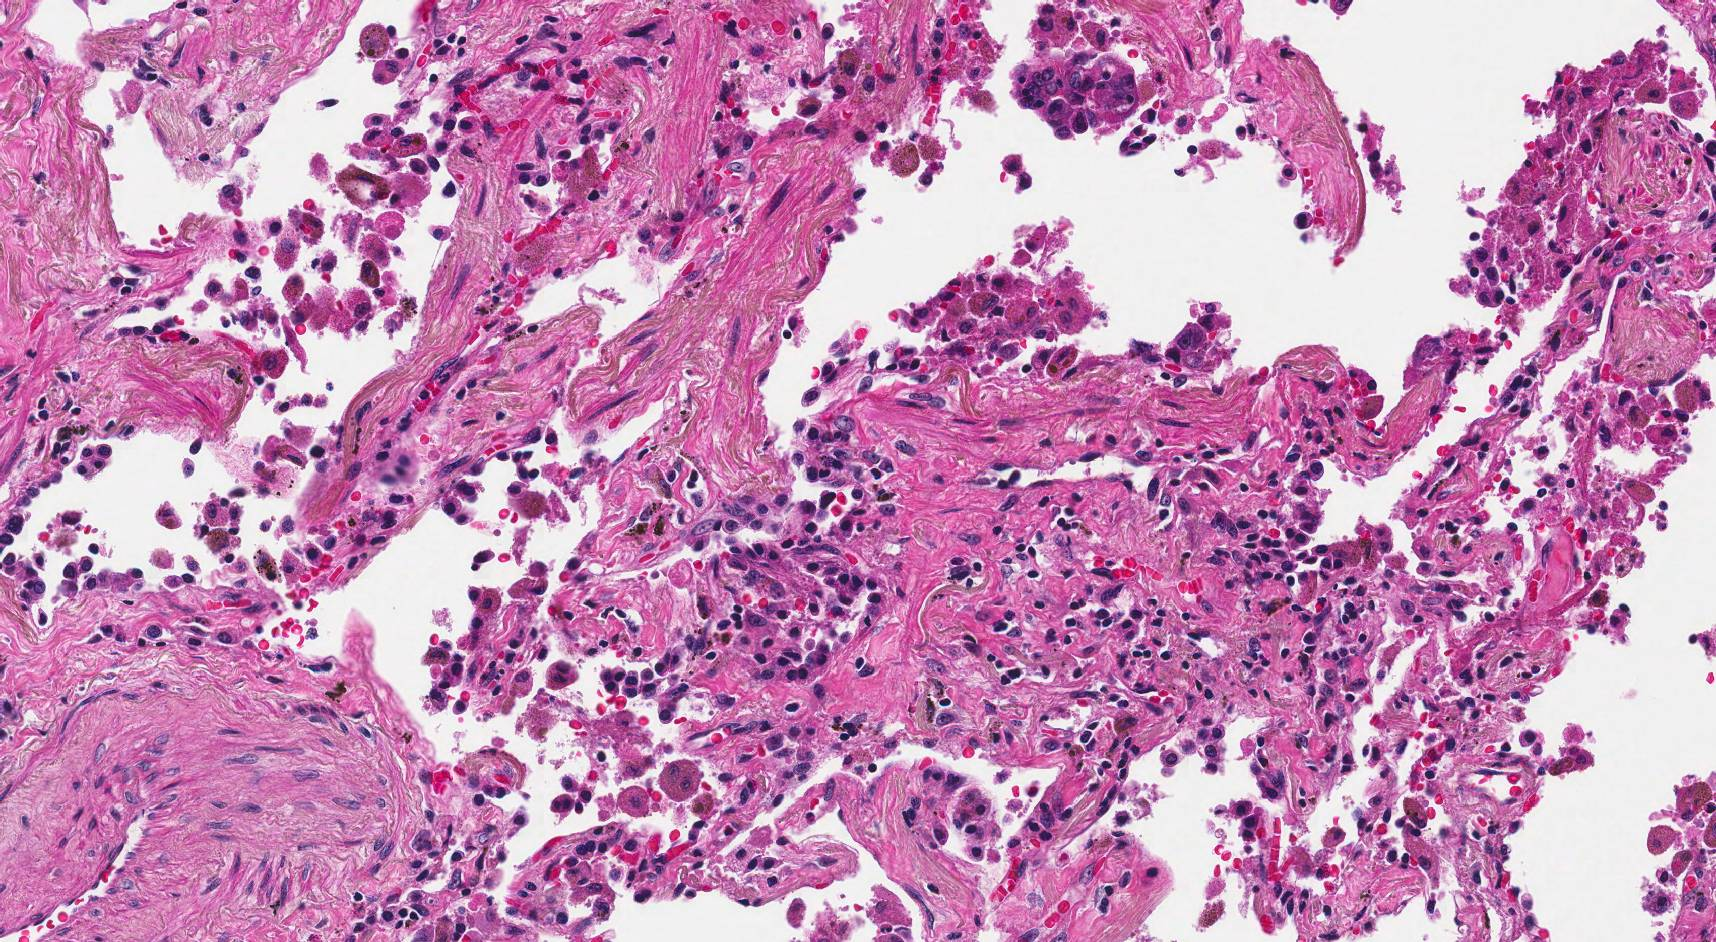stas: (1011, 56, 1139, 137)
